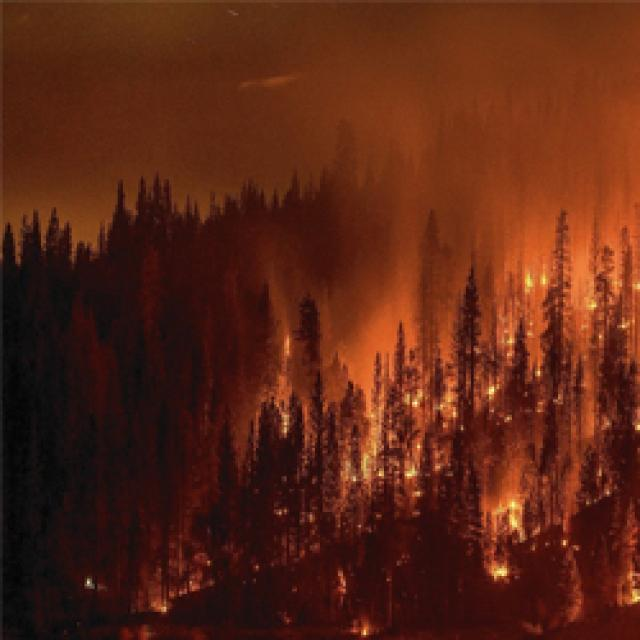Fire: (583, 273, 640, 340), (497, 308, 540, 363), (406, 386, 459, 419), (486, 496, 524, 529), (346, 447, 383, 480), (594, 462, 618, 503), (402, 444, 427, 477), (328, 566, 352, 598), (516, 274, 549, 292), (494, 557, 514, 586), (622, 576, 640, 606), (348, 622, 374, 640), (631, 402, 640, 434), (483, 382, 496, 393)
Smoke: (0, 0, 640, 250), (328, 248, 431, 388), (227, 252, 325, 326), (434, 245, 498, 348)
